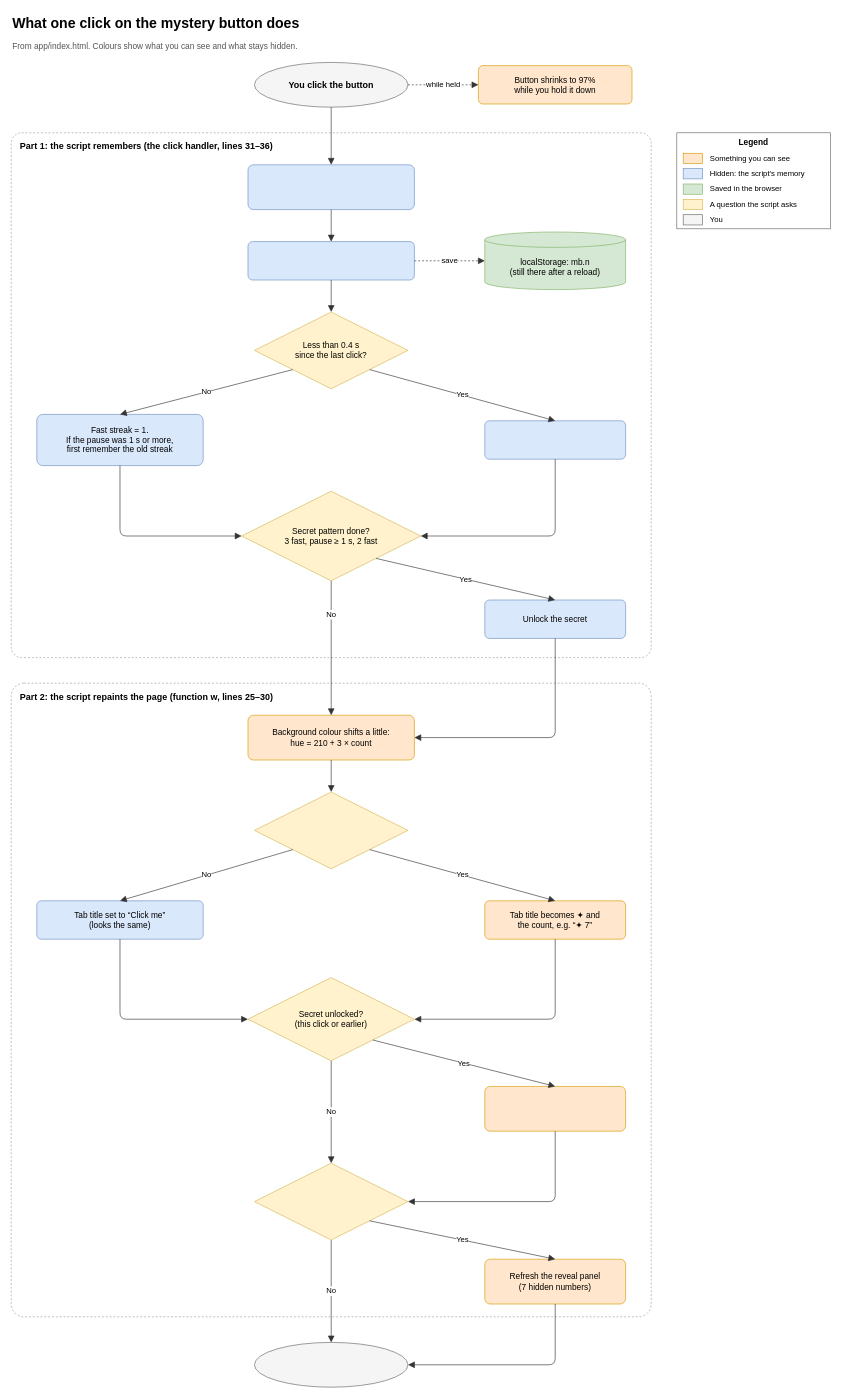
The diagram is 842 pixels wide and 1398 high, and some of its shapes have lost their labels. Here are the shapes that lost their labels. From the top down, the centre of each, then its label:
[330,187]: Read the clock. gap = time since your last click (0 on the first click)
[330,260]: Add 1 to the click count
[555,439]: Fast streak + 1
[331,830]: Is the count a multiple of 7?
[555,1108]: Show “Mischief managed.” under the button
[331,1201]: Address has ?reveal in it?
[331,1364]: Wait for the next click
